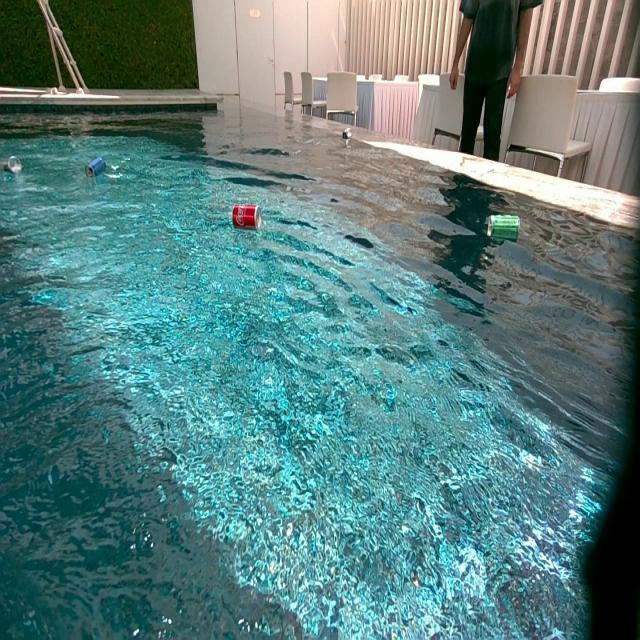Cans: (487, 213, 520, 240), (232, 205, 262, 230), (87, 157, 107, 179), (5, 156, 21, 176), (343, 128, 352, 142)
